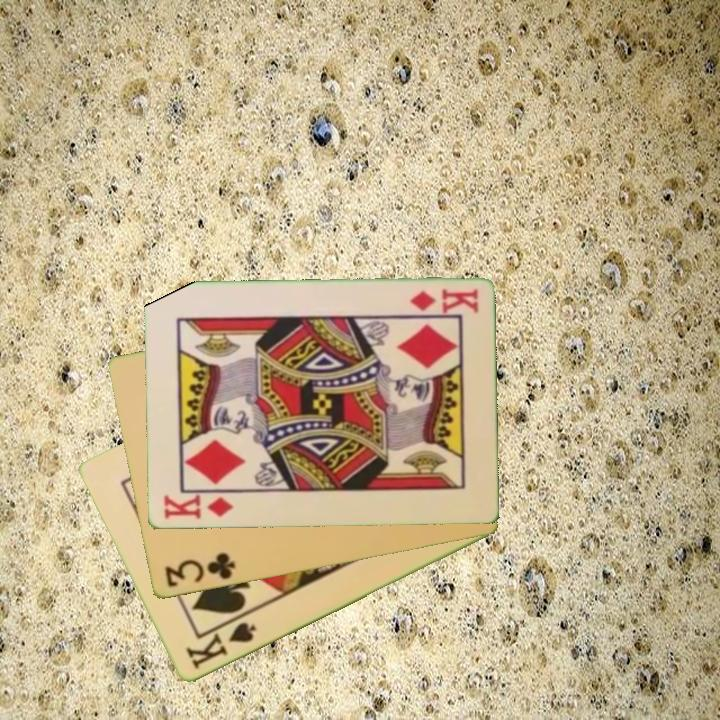3c: (161, 549, 238, 591)
Kd: (160, 491, 236, 522), (406, 286, 480, 315)
Ks: (182, 619, 259, 674)
